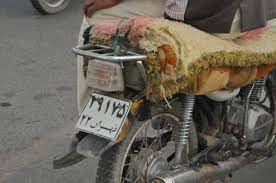car: (75, 89, 134, 144)
